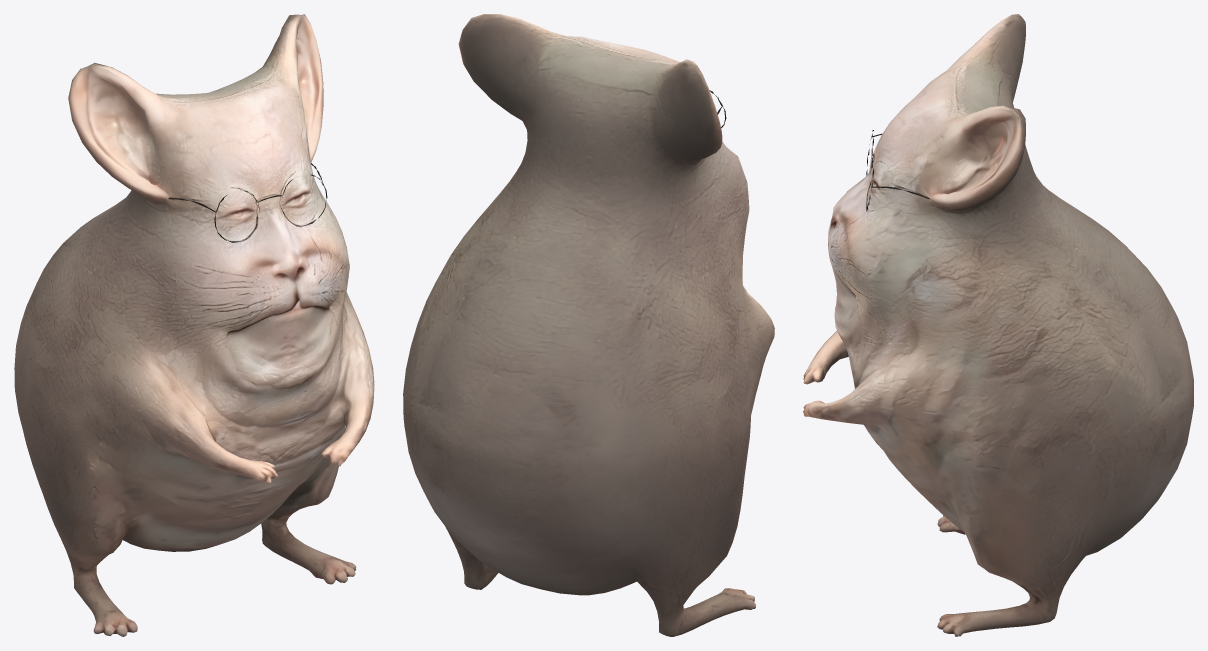
Rendered from base_basic_shaded.glb.
The picture shows the model from 3 angles, left to right: view 1: azimuth 30°, elevation 25°; view 2: azimuth 150°, elevation 25°; view 3: azimuth 270°, elevation 25°; orthographic projection. The views are drawn at different scales.
Parts seen in each view (by area): view 1: model; view 2: model; view 3: model.
Boxes of the visible parts, box(x1,y1,x2,y2) form: model: box(14, 14, 374, 636); model: box(403, 14, 774, 636); model: box(803, 14, 1193, 636).
Bounding box in the file's own units: 1.07 × 1.9 × 1.3.
Materials: 1 (1 with a texture image).
